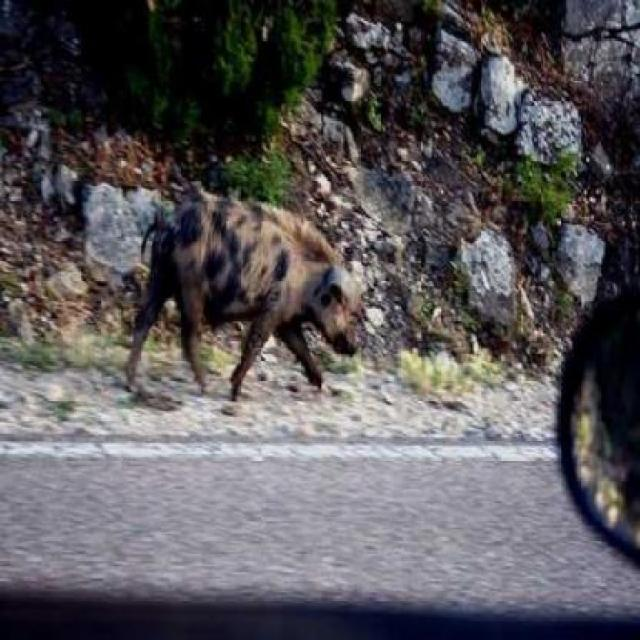pig: (109, 134, 400, 460)
